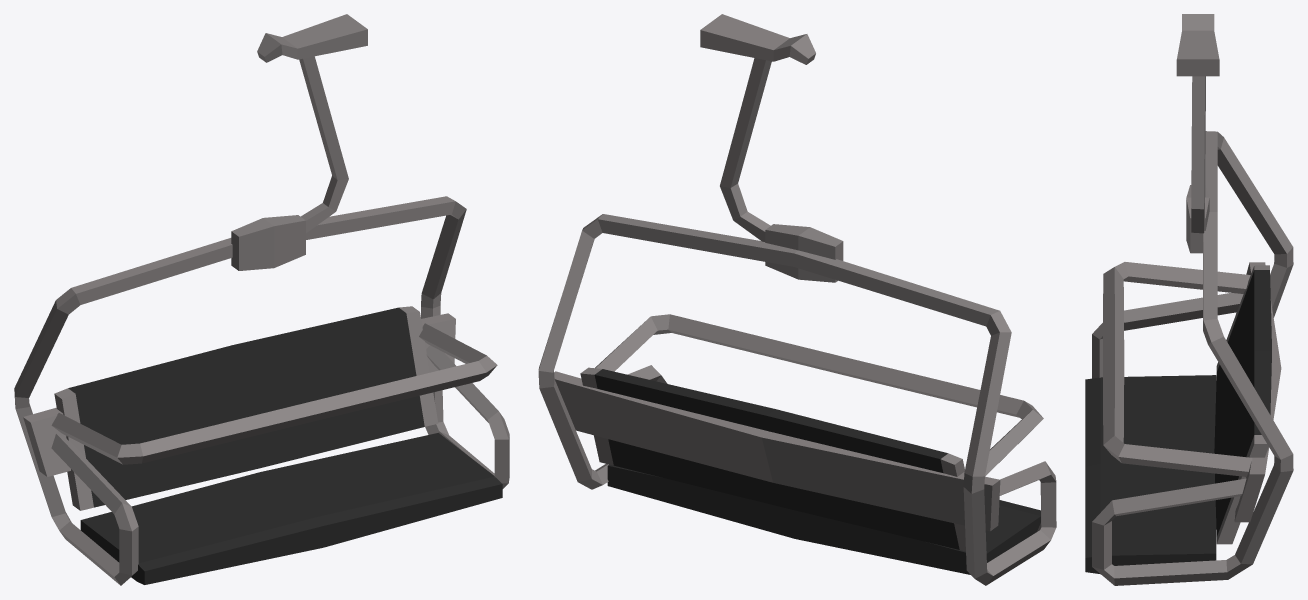
Rendered from ski-lift-seat.glb.
The picture shows the model from 3 angles, left to right: view 1: azimuth 30°, elevation 25°; view 2: azimuth 150°, elevation 25°; view 3: azimuth 270°, elevation 25°; orthographic projection. The views are drawn at different scales.
Visible parts, largest first — view 1: ski-lift-seat; view 2: ski-lift-seat; view 3: ski-lift-seat.
Boxes of the visible parts, x1,y1,x2,y2 form: ski-lift-seat: [14, 14, 509, 585]; ski-lift-seat: [538, 14, 1056, 585]; ski-lift-seat: [1085, 14, 1293, 585].
Size of the model in its own units: 2.53 by 2.67 by 1.05.
1 material, 1 textured.
